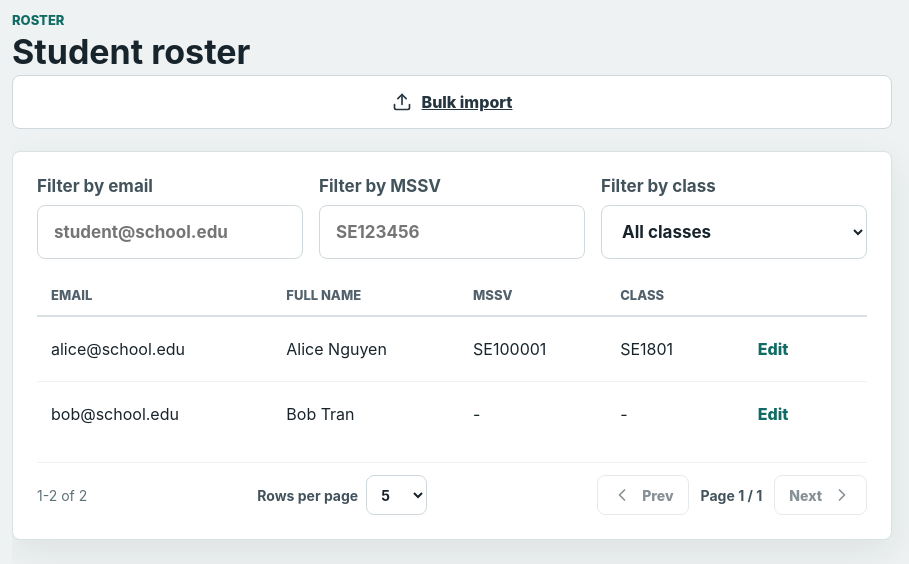
Scenario: RosterPage › filters students by email
Check: the text "alice@school.edu" is shown, box [37, 316, 272, 382]
Type "alice" into the field with placeholder "student@school.edu". click: (170, 232)
box: [37, 205, 303, 259]
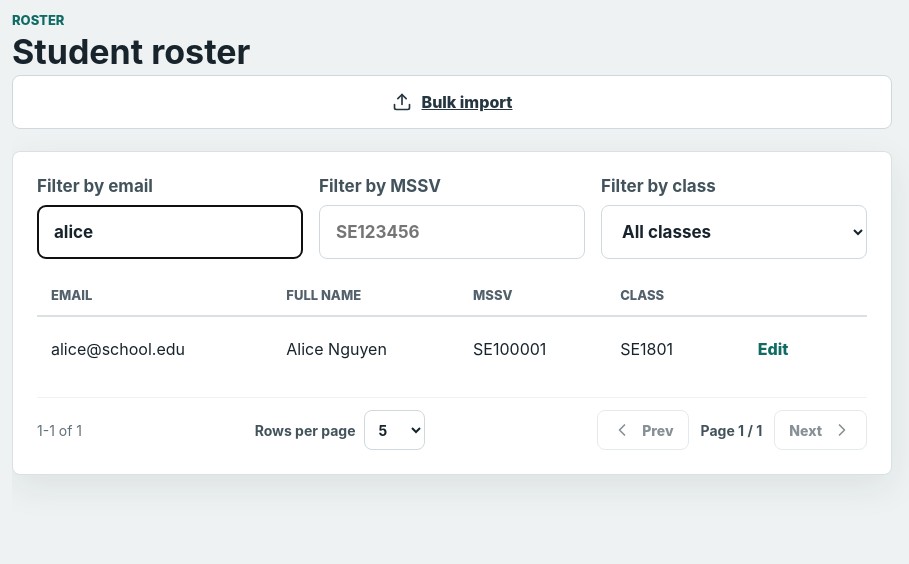
Check: the text "alice@school.edu" is shown, box [37, 316, 272, 381]
Check: the text "bob@school.edu" is gone
